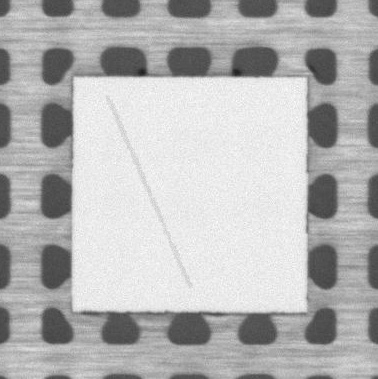DIE_CRACK: (108, 97, 189, 287)
